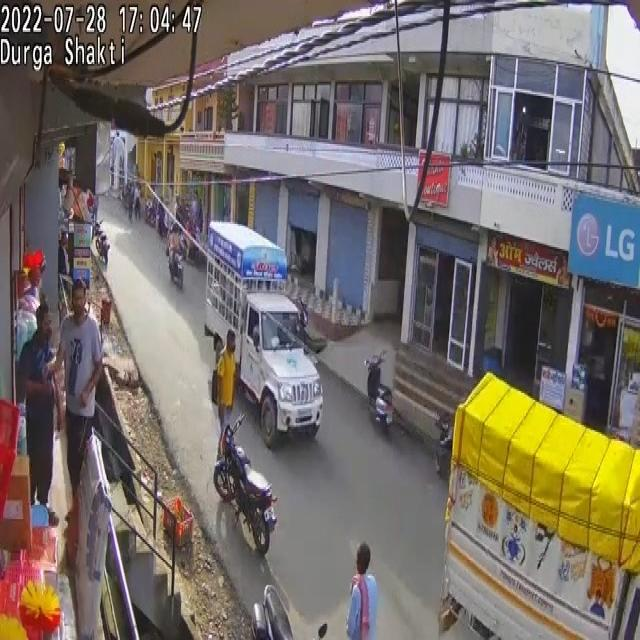non-fight: (48, 280, 118, 507), (18, 307, 64, 517), (345, 540, 379, 640), (215, 328, 238, 447), (181, 179, 203, 211), (128, 187, 134, 221)
